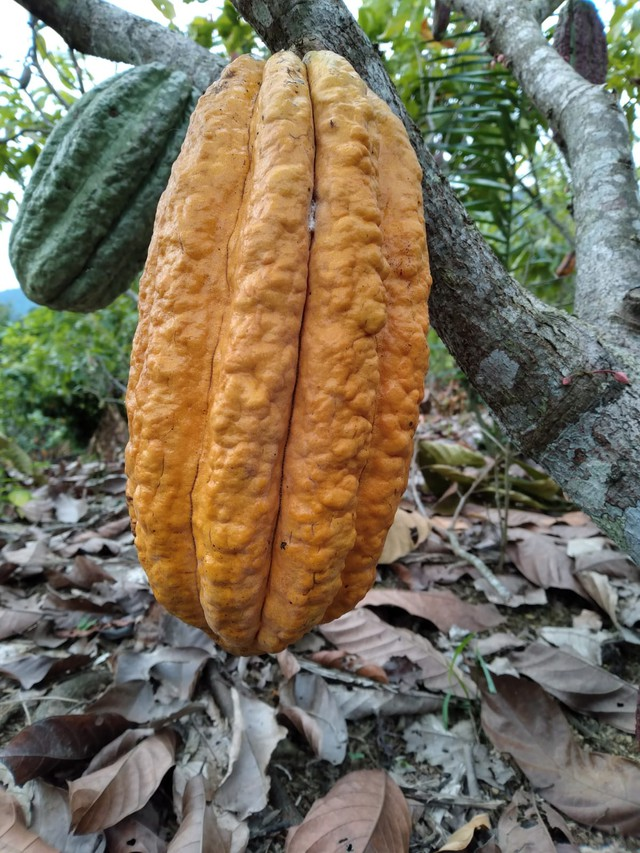Health: (117, 44, 442, 661)
